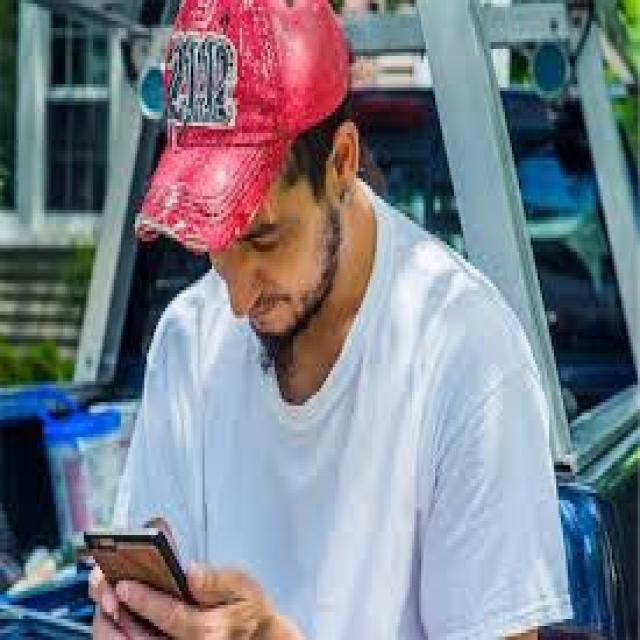3_gorra: (134, 0, 352, 254)
